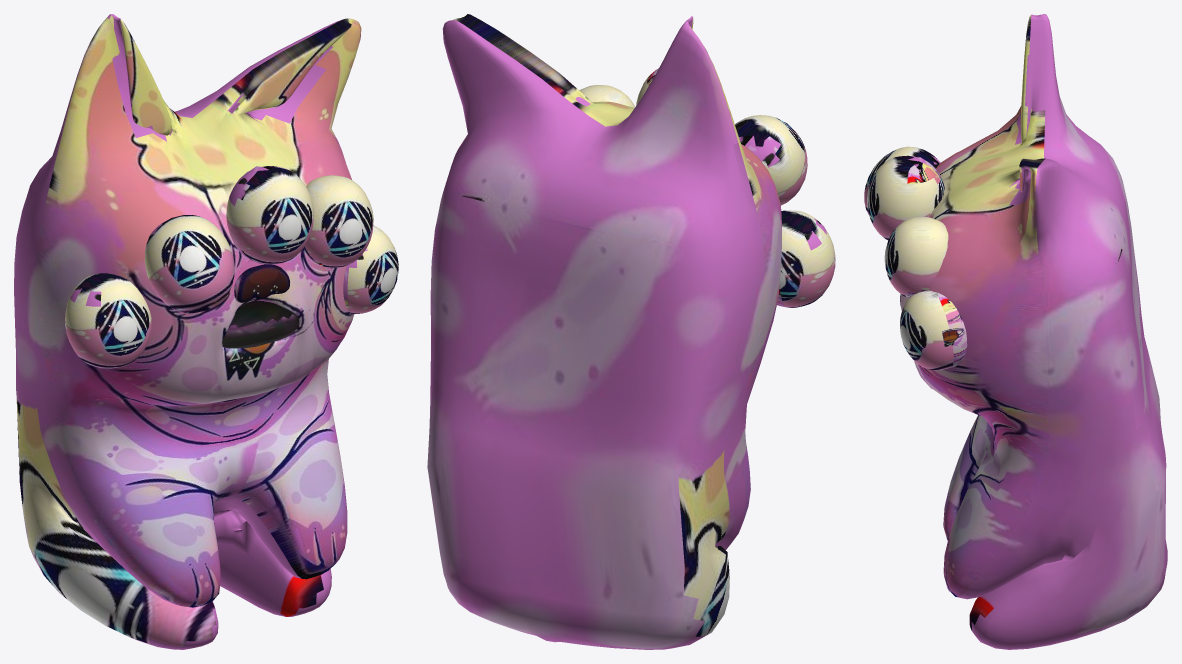
File: tye-pod-dog.fbx
The picture shows the model from 3 angles, left to right: view 1: azimuth 30°, elevation 25°; view 2: azimuth 150°, elevation 25°; view 3: azimuth 270°, elevation 25°; orthographic projection. The views are drawn at different scales.
Parts seen in each view (by area): view 1: tye-pod-dog; view 2: tye-pod-dog; view 3: tye-pod-dog.
Part boxes in pixels (left/top/right/bottom): tye-pod-dog: left=14, top=14, right=398, bottom=649; tye-pod-dog: left=427, top=14, right=835, bottom=649; tye-pod-dog: left=864, top=14, right=1167, bottom=649.
Bounding box in the file's own units: 55.59 × 97.82 × 48.02.
Materials: 1 (1 with a texture image).
